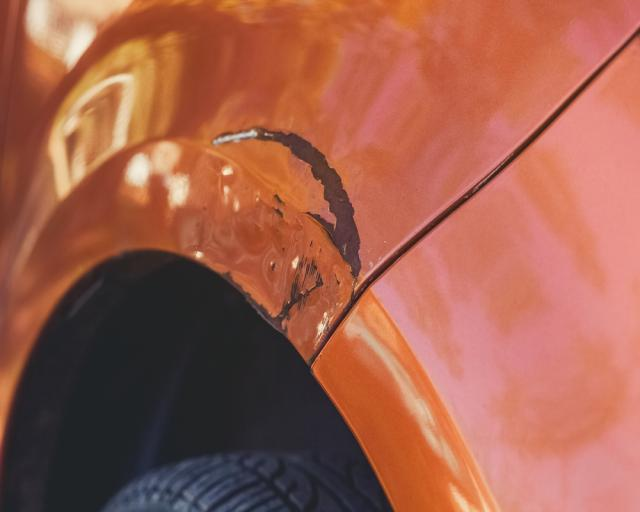dent: (176, 155, 350, 349)
scratch: (209, 124, 365, 292)
